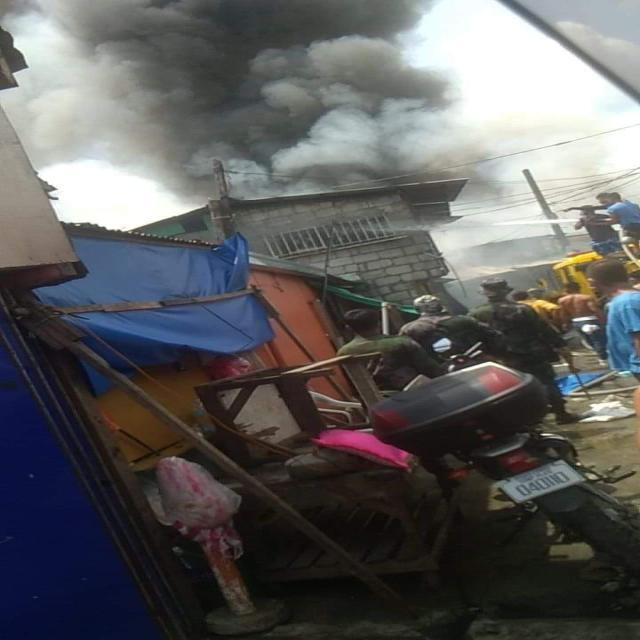Smoke: (41, 0, 495, 206)
